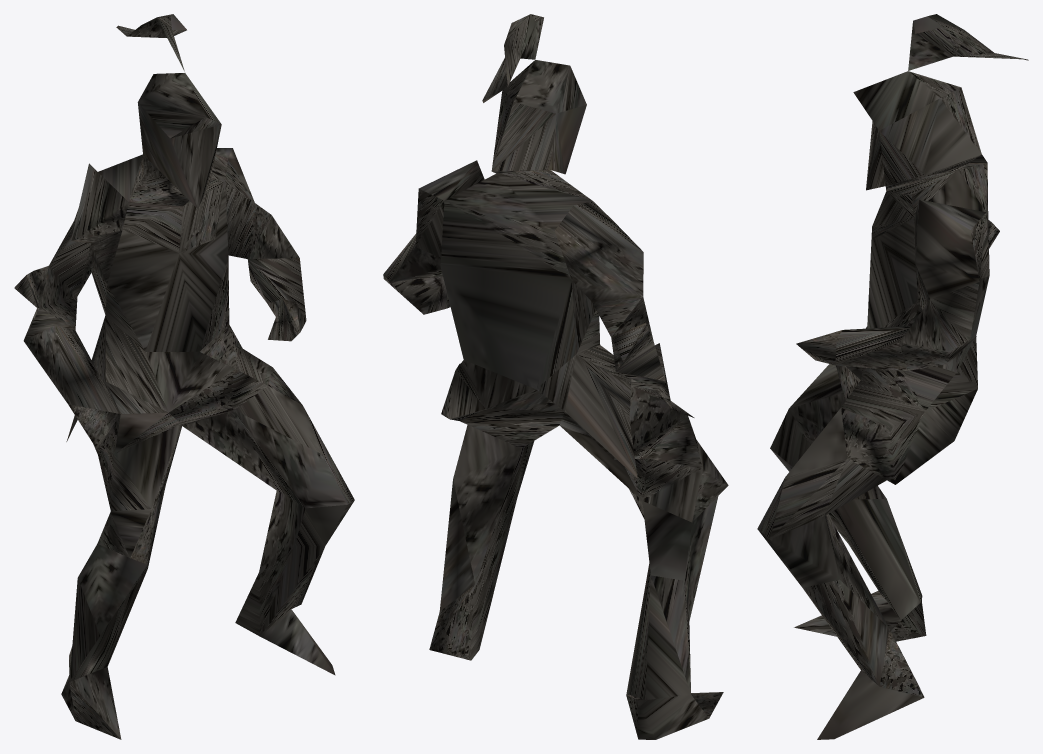
File: ae_knight_rider_lod1.glb
The picture shows the model from 3 angles, left to right: view 1: azimuth 30°, elevation 25°; view 2: azimuth 150°, elevation 25°; view 3: azimuth 270°, elevation 25°; orthographic projection. The views are drawn at different scales.
Visible parts, largest first — view 1: output_unwrapped; view 2: output_unwrapped; view 3: output_unwrapped.
Boxes of the visible parts, x1,y1,x2,y2 form: output_unwrapped: (14,14,354,739); output_unwrapped: (383,14,728,739); output_unwrapped: (757,14,1028,739).
Bounding box in the file's own units: 0.7999 × 1.9 × 0.6969.
1 material, 1 textured.
